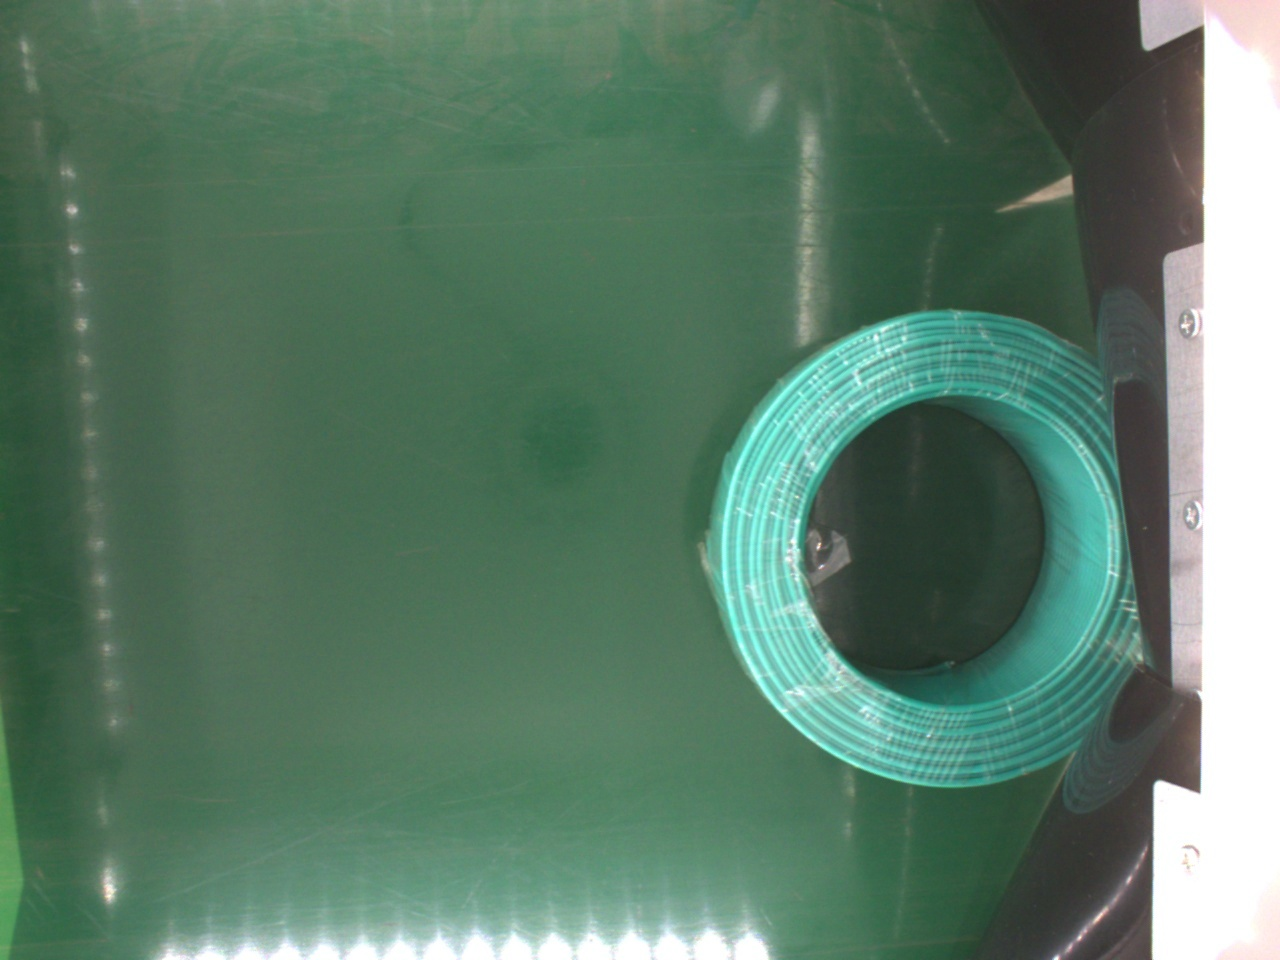green: (711, 310, 1140, 796)
